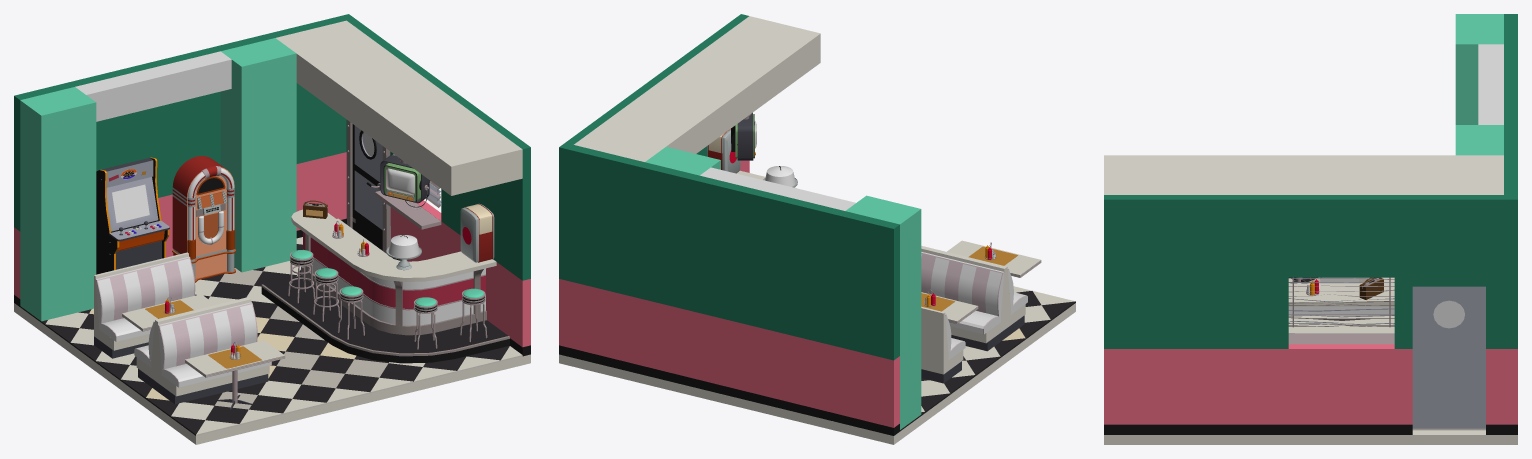
The model's file is homework4.fbx.
3 views of the same model, side by side, from view 1: azimuth 30°, elevation 25°; view 2: azimuth 150°, elevation 25°; view 3: azimuth 270°, elevation 25° (orthographic). The views are drawn at different scales.
Visible parts, largest first — view 1: Cube, Cube.045, Cube.010, Cube.011, Cube.013, Cube.009, Cube.008, Cube.079, Cube.014, Cube.345, Cube.340, Cube.075 (+44 smaller); view 2: Cube, Cube.045, Cube.010, Cube.079, Cube.005, Cube.009, Cube.338, Cube.011, Cube.346, Cube.046, Cube.004, Cube.003 (+2 smaller); view 3: Cube, Cube.045, Cube.075, Cube.079, Cube.010, Cube.009, Cube.014, Cube.015, Cube.011, Cube.048, Cube.008, Cube.078.
Boxes of the visible parts, x1=… form: Cube: x1=14, y1=14, x2=530, y2=356; Cube.045: x1=276, y1=20, x2=522, y2=195; Cube.010: x1=20, y1=87, x2=96, y2=321; Cube.011: x1=220, y1=38, x2=296, y2=272; Cube.013: x1=261, y1=275, x2=509, y2=363; Cube.009: x1=75, y1=51, x2=231, y2=121; Cube.008: x1=303, y1=232, x2=485, y2=325; Cube.079: x1=14, y1=303, x2=530, y2=444; Cube.014: x1=291, y1=209, x2=496, y2=281; Cube.345: x1=158, y1=302, x2=257, y2=369; Cube.340: x1=95, y1=256, x2=195, y2=323; Cube.075: x1=352, y1=124, x2=382, y2=250; Cube: x1=559, y1=14, x2=899, y2=435; Cube.045: x1=574, y1=16, x2=820, y2=161; Cube.010: x1=845, y1=195, x2=921, y2=429; Cube.079: x1=559, y1=303, x2=1075, y2=444; Cube.005: x1=921, y1=252, x2=1004, y2=316; Cube.009: x1=700, y1=167, x2=855, y2=210; Cube.338: x1=921, y1=306, x2=948, y2=374; Cube.011: x1=645, y1=146, x2=720, y2=175; Cube.346: x1=947, y1=240, x2=1041, y2=277; Cube.046: x1=737, y1=112, x2=753, y2=160; Cube.004: x1=949, y1=311, x2=1000, y2=334; Cube.003: x1=921, y1=247, x2=1005, y2=331; Cube: x1=1104, y1=14, x2=1517, y2=434; Cube.045: x1=1104, y1=155, x2=1503, y2=194; Cube.075: x1=1412, y1=286, x2=1485, y2=428; Cube.079: x1=1104, y1=430, x2=1517, y2=444; Cube.010: x1=1455, y1=14, x2=1503, y2=124; Cube.009: x1=1478, y1=44, x2=1503, y2=124; Cube.014: x1=1288, y1=283, x2=1394, y2=306; Cube.015: x1=1288, y1=316, x2=1394, y2=333; Cube.011: x1=1455, y1=125, x2=1503, y2=155; Cube.048: x1=1288, y1=333, x2=1394, y2=344; Cube.008: x1=1288, y1=306, x2=1394, y2=315; Cube.078: x1=1433, y1=300, x2=1464, y2=328.
Bounding box in the file's own units: 2176 × 1341 × 2050.
